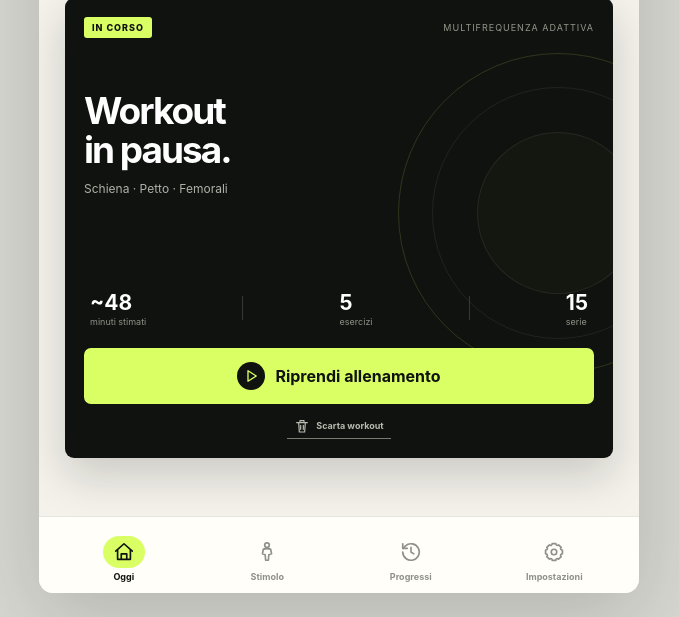
Test: critical workout lifecycle › an active workout survives navigation and reload state without exposing generation
The width and height of the screenshot is (679, 617).
(page scrolled)
Expected: the heading "Workoutin pausa." is shown, [84,88,231,172]
Click the button "Riprendi allenamento": (339, 376) [84,348,594,404]
(page scrolled)
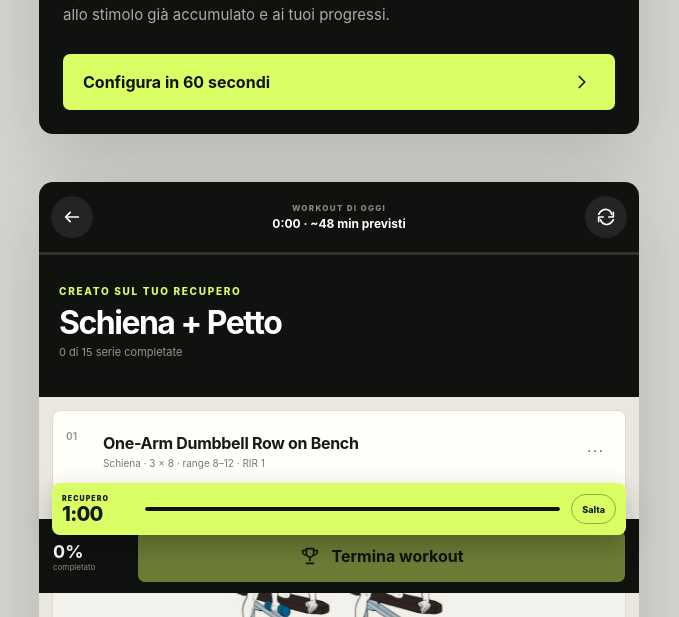
Now the text "RECUPERO" is shown, box [62,494,109,503]
Click the button named "Metti in pausa e torna indietro": (72, 217) [51,196,93,238]
(page scrolled)
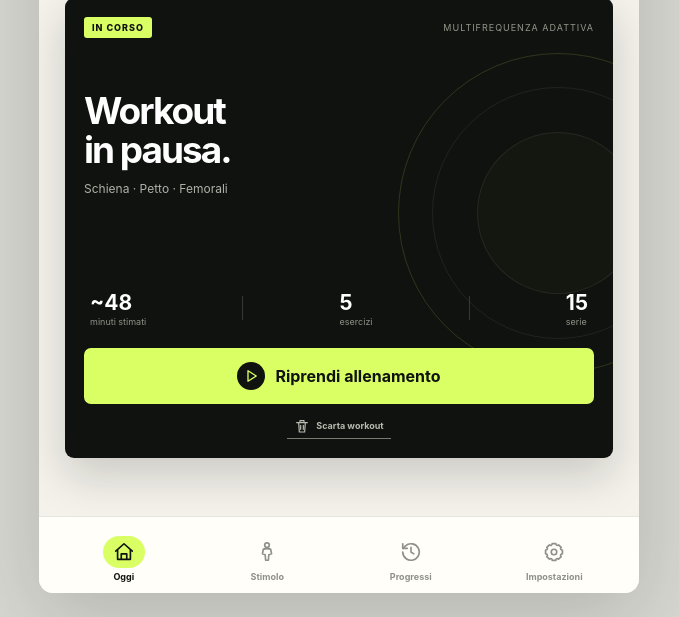
Click the button "Riprendi allenamento": (339, 376) [84,348,594,404]
(page scrolled)
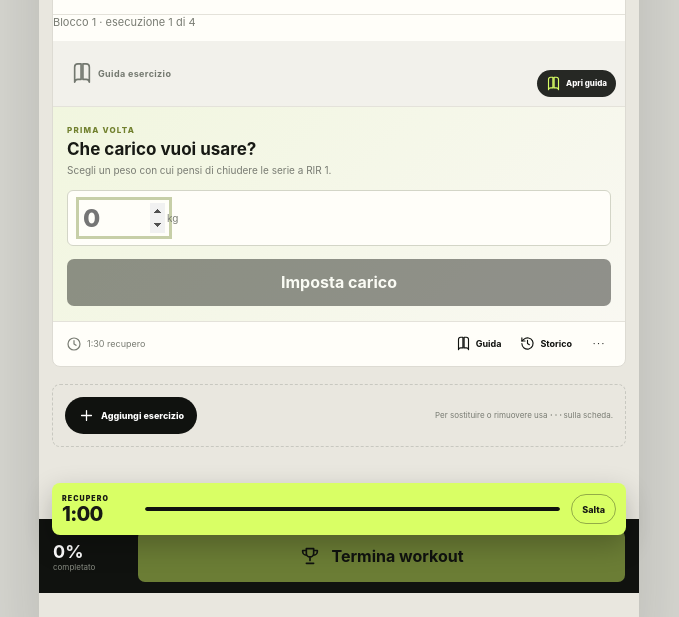
Now the text "RECUPERO" is shown, box [62,494,109,503]
